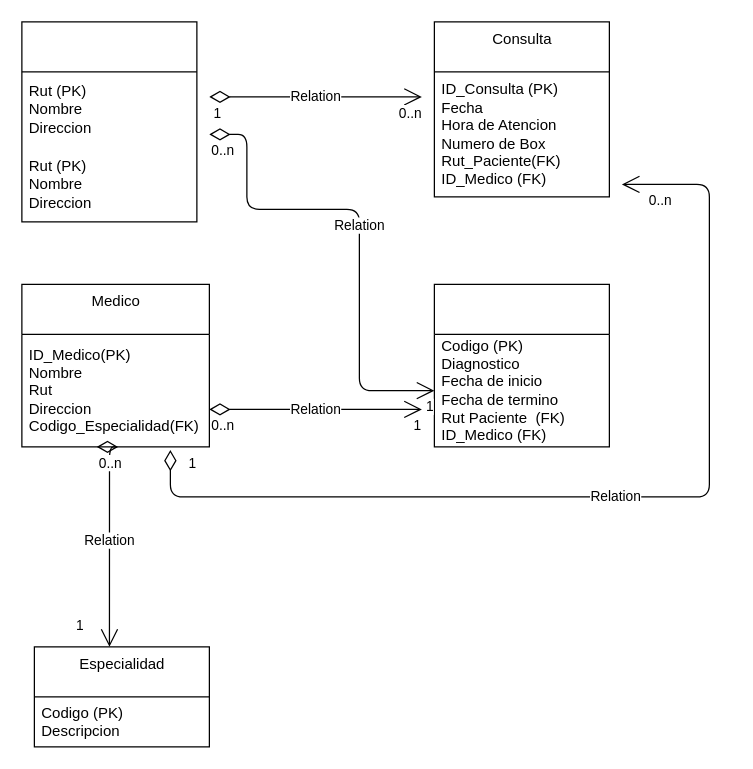
Image size: 753x769. Some labels were removed from this diagram. Here are the shapes that lost their labels. From the top down, the box of each, then its label:
(21, 21, 197, 222): Paciente
(433, 283, 609, 447): Licencia
